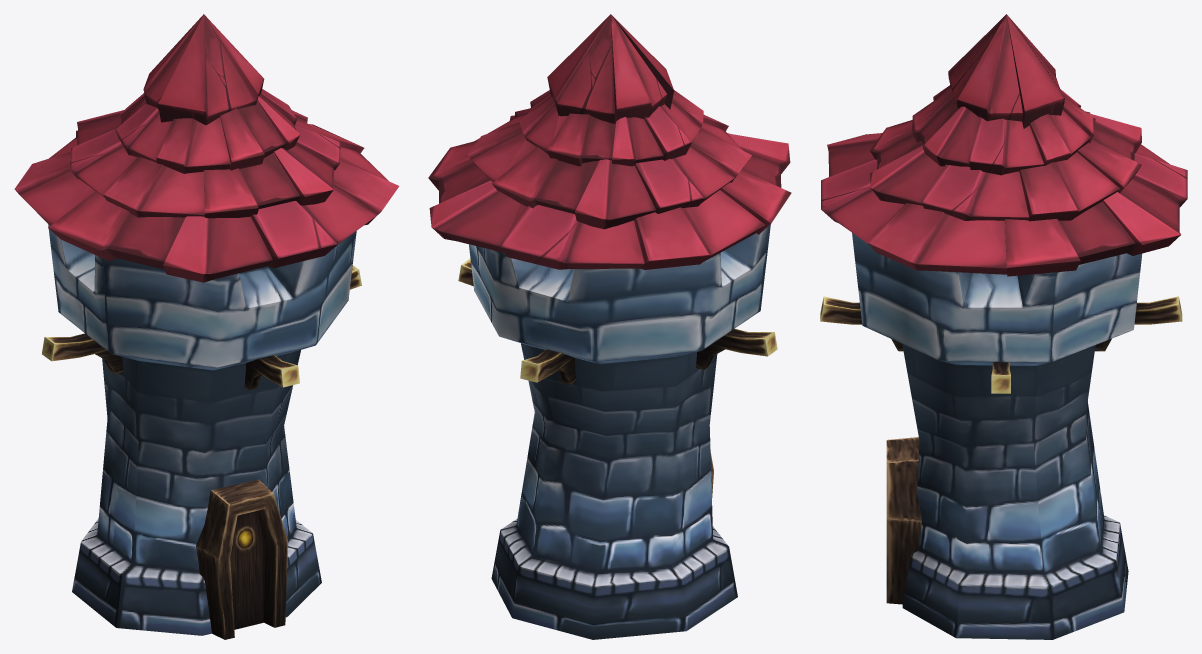
The model's file is Vampire_Village_Building_05.FBX.
3 renders of one model, left to right at view 1: azimuth 30°, elevation 25°; view 2: azimuth 150°, elevation 25°; view 3: azimuth 270°, elevation 25°, orthographic.
Parts seen in each view (by area): view 1: Vampire_Village_Building_05; view 2: Vampire_Village_Building_05; view 3: Vampire_Village_Building_05.
Part boxes in pixels (x1,y1,x2,y2): Vampire_Village_Building_05: (14,14,399,639); Vampire_Village_Building_05: (428,14,791,639); Vampire_Village_Building_05: (820,14,1187,639).
Size of the model in its own units: 488 by 834 by 480.
